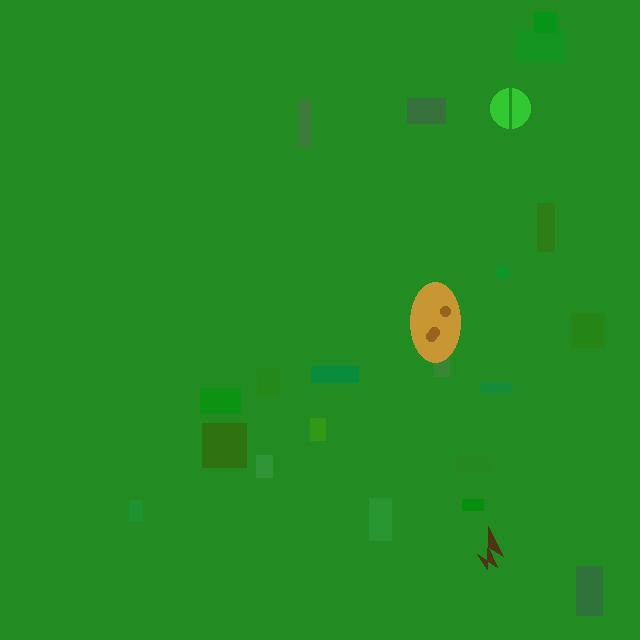damaged_crop: (410, 282, 460, 362)
disease: (458, 508, 505, 586)
healthy_crop: (490, 88, 530, 128)
